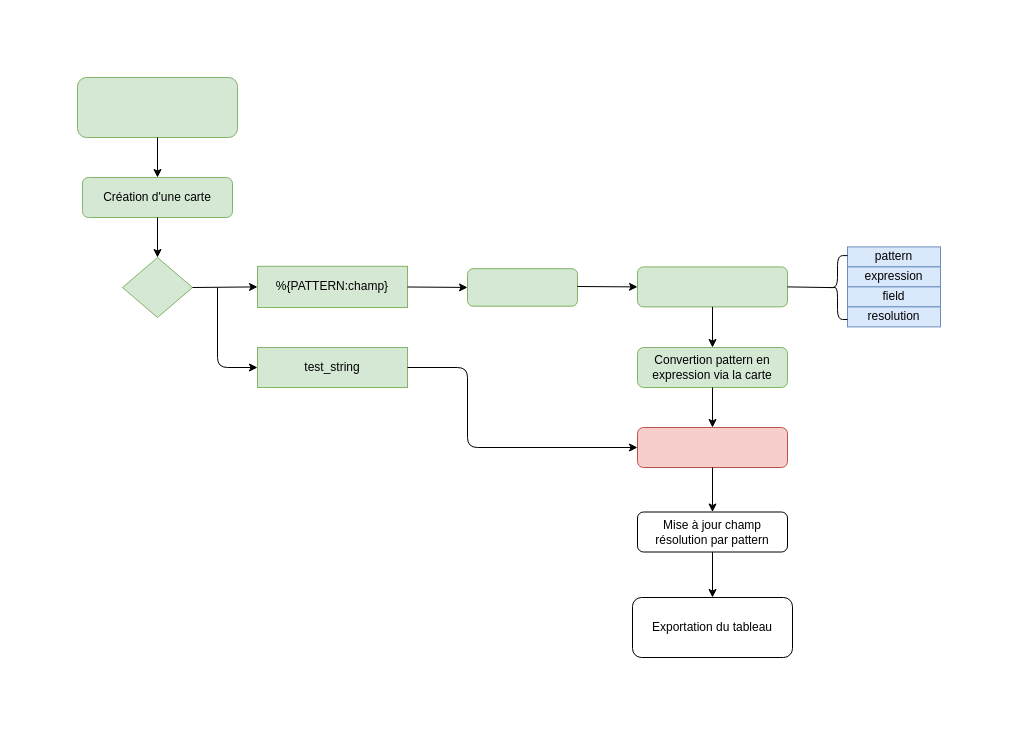
The diagram is 1034 pixels wide and 734 high, and some of its shapes have lost their labels. Each missing label, with the centre of its shape:
"Chargement des patterns" belongs at pixel 157 107.
"Création d'un tableau" belongs at pixel 712 286.
"Execution de l'expression" belongs at pixel 712 447.
"Extraction" belongs at pixel 522 287.
"Input" belongs at pixel 157 287.
